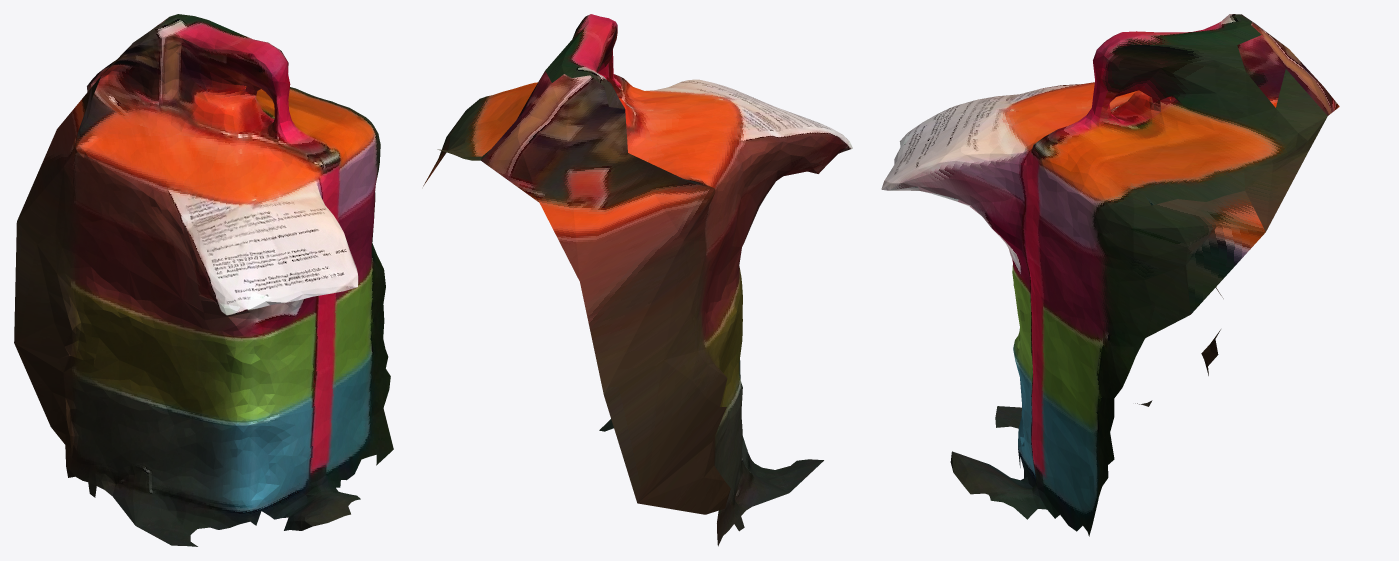
File: expedition-lunchbox.glb
3 views of the same model, side by side, from view 1: azimuth 30°, elevation 25°; view 2: azimuth 150°, elevation 25°; view 3: azimuth 270°, elevation 25° (orthographic). The views are drawn at different scales.
Parts seen in each view (by area): view 1: Mesh_0.003; view 2: Mesh_0.003; view 3: Mesh_0.003.
Boxes of the visible parts, x1=… form: Mesh_0.003: x1=14, y1=14, x2=393, y2=546; Mesh_0.003: x1=423, y1=14, x2=852, y2=546; Mesh_0.003: x1=881, y1=14, x2=1339, y2=536.
Bounding box in the file's own units: 0.2096 × 0.3058 × 0.3011.
1 material, 1 textured.
